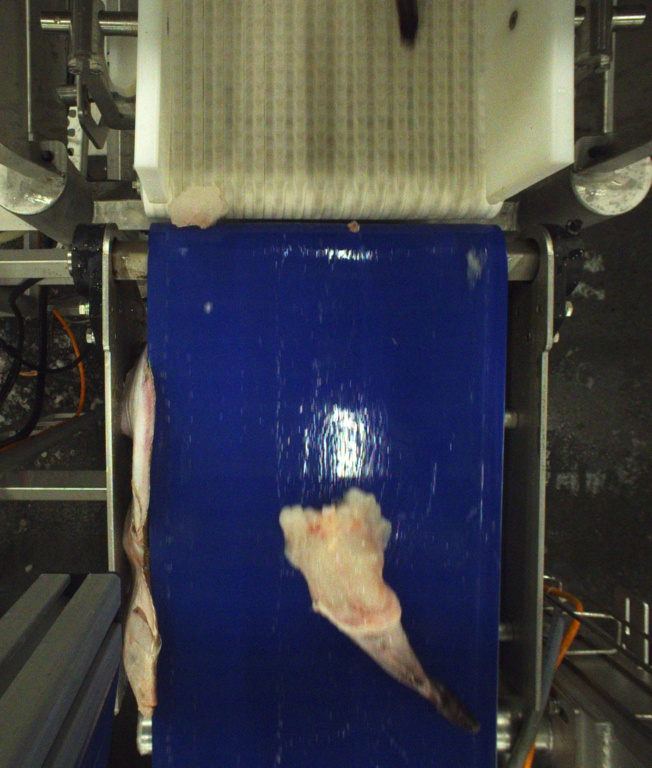ANF: (280, 488, 475, 739)
